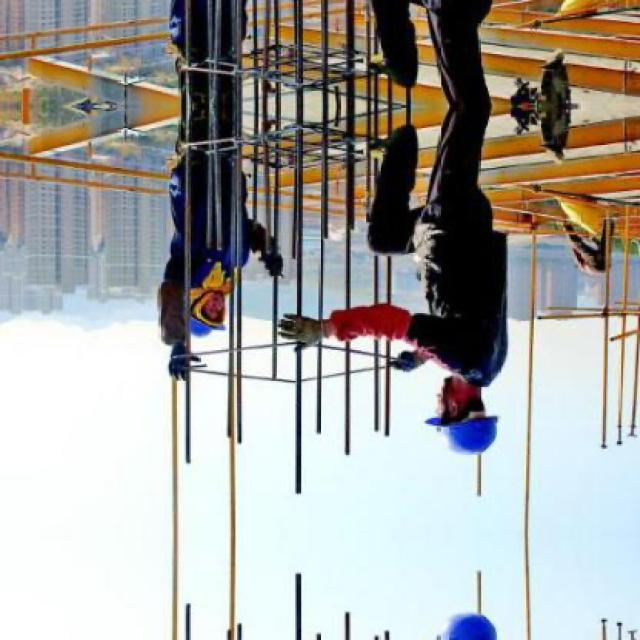con casco: (108, 282, 272, 368), (399, 362, 511, 474)
